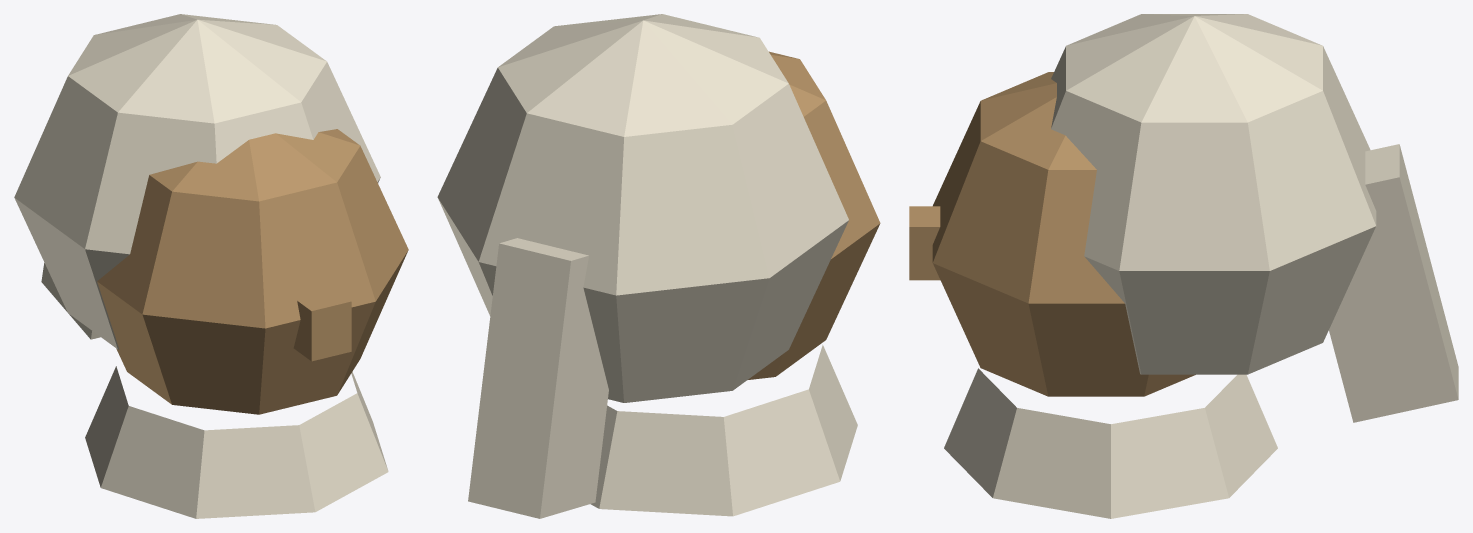
The model's file is villager-head-hood.glb.
The picture shows the model from 3 angles, left to right: view 1: azimuth 30°, elevation 25°; view 2: azimuth 150°, elevation 25°; view 3: azimuth 270°, elevation 25°; orthographic projection. The views are drawn at different scales.
Visible parts, largest first — view 1: head; view 2: head; view 3: head.
Part boxes in pixels (bbox=[...]): head: bbox=[14, 14, 408, 518]; head: bbox=[437, 14, 880, 518]; head: bbox=[909, 14, 1458, 518].
Bounding box in the file's own units: 0.7391 × 0.97 × 1.12.
1 material, 1 textured.
